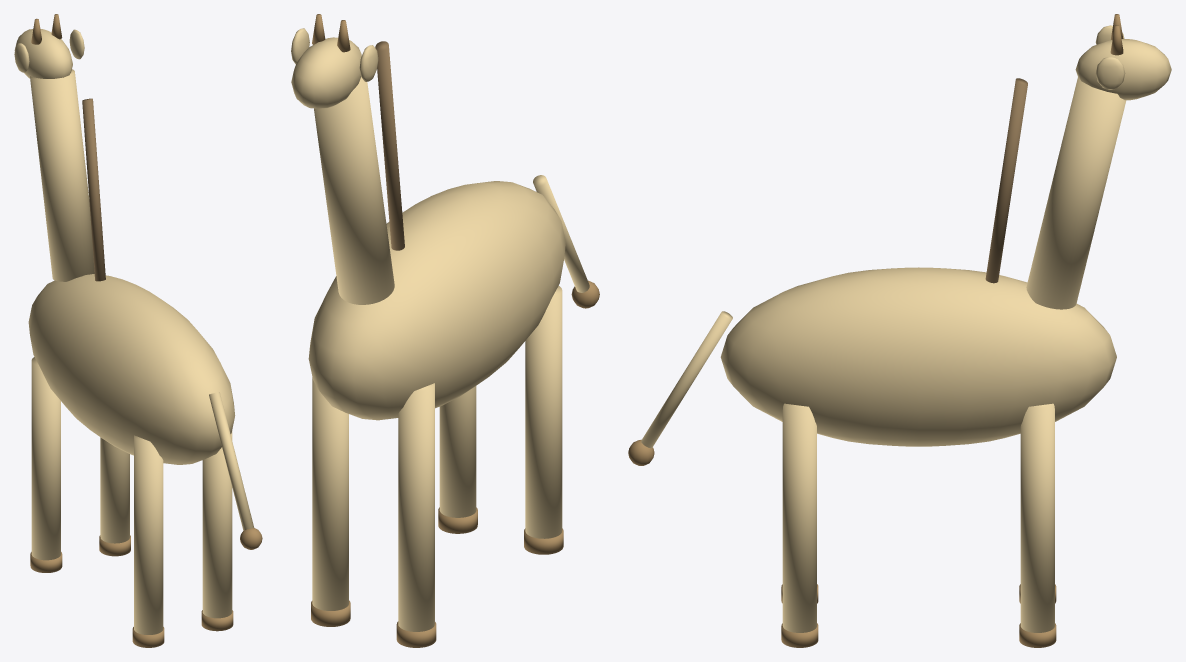
File: giraffe.glb
3 views of the same model, side by side, from view 1: azimuth 30°, elevation 25°; view 2: azimuth 150°, elevation 25°; view 3: azimuth 270°, elevation 25° (orthographic). The views are drawn at different scales.
Visible parts, largest first — view 1: Giraffe; view 2: Giraffe; view 3: Giraffe.
Part boxes in pixels (bbox=[...]): Giraffe: bbox=[14, 14, 262, 647]; Giraffe: bbox=[291, 14, 599, 647]; Giraffe: bbox=[628, 14, 1171, 647].
Size of the model in its own units: 1.2 by 5.01 by 4.11.
